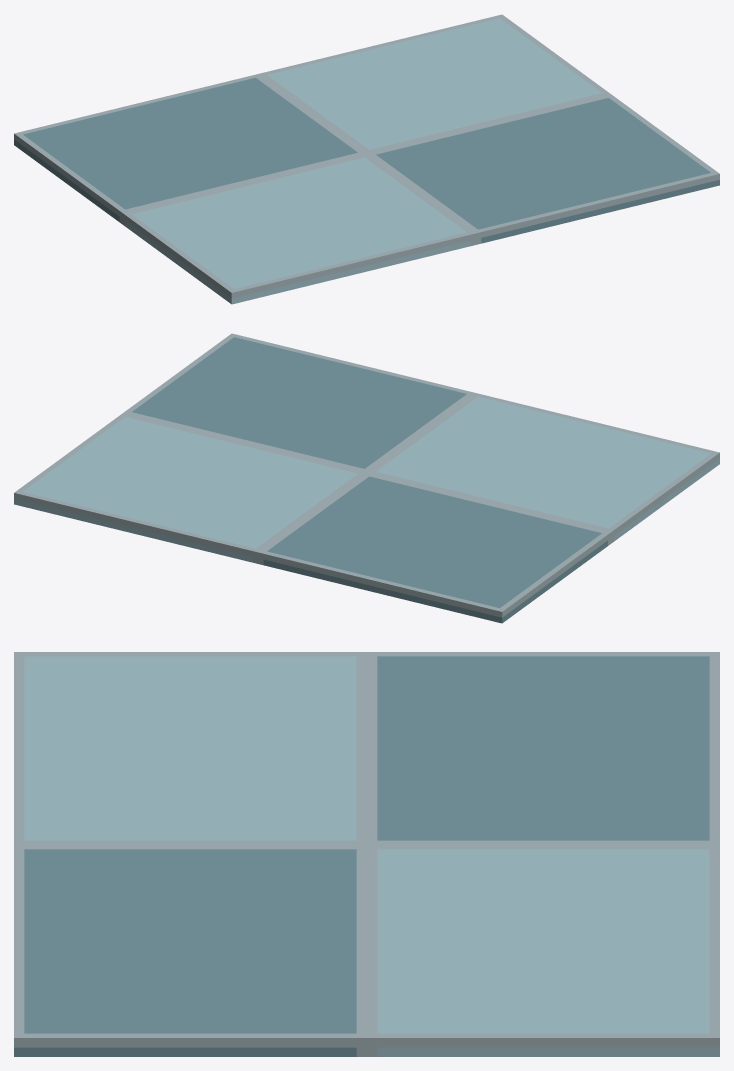
Rendered from plitka_pol.obj.
3 renders of one model, top to bottom at view 1: azimuth 30°, elevation 25°; view 2: azimuth 150°, elevation 25°; view 3: azimuth 270°, elevation 25°, orthographic. The views are drawn at different scales.
Size of the model in its own units: 8.8 by 0.2 by 6.8.
Materials: 1 (1 with a texture image).
